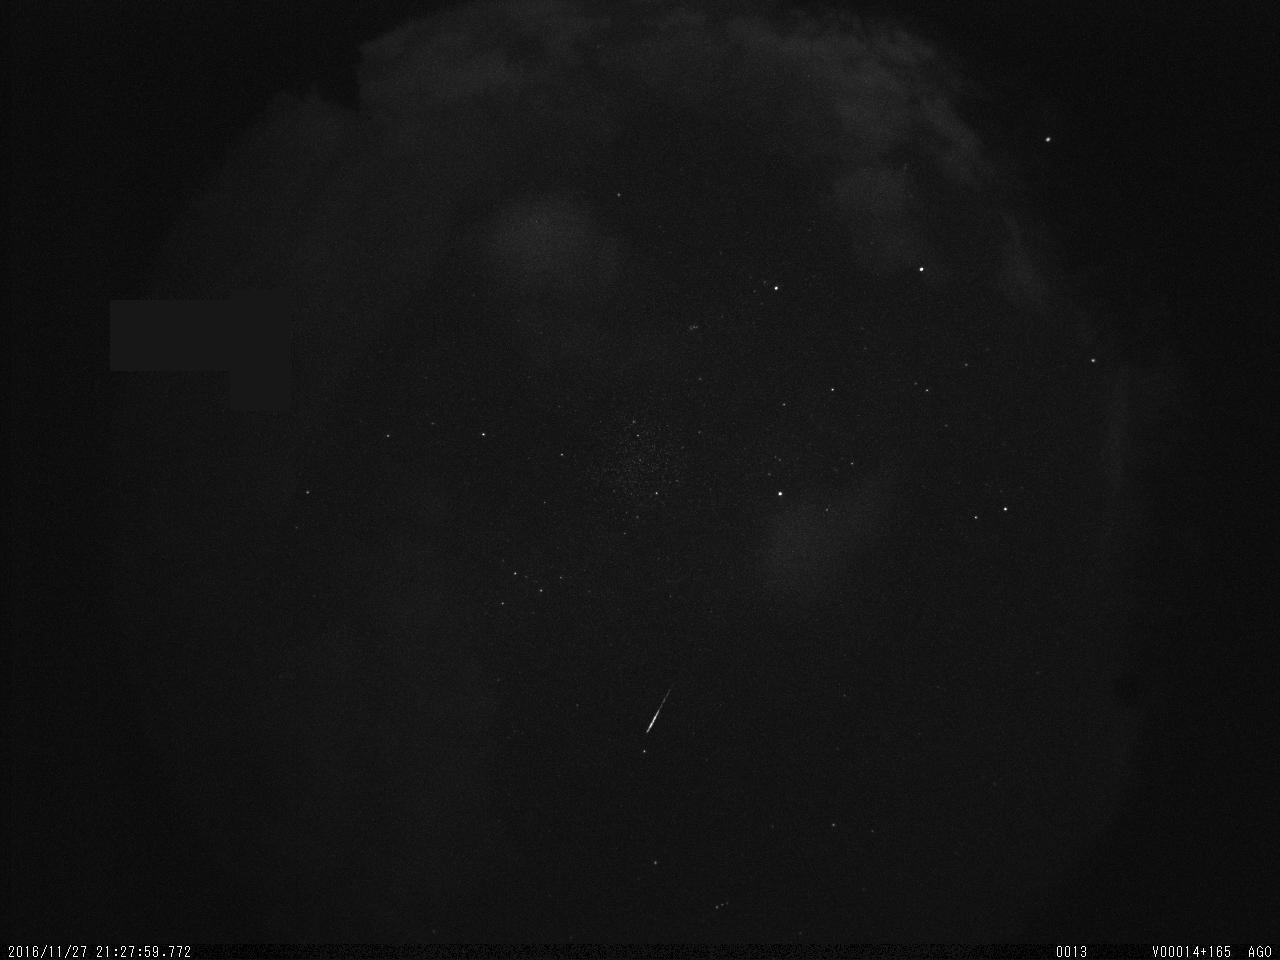meteor: (642, 674, 676, 742)
